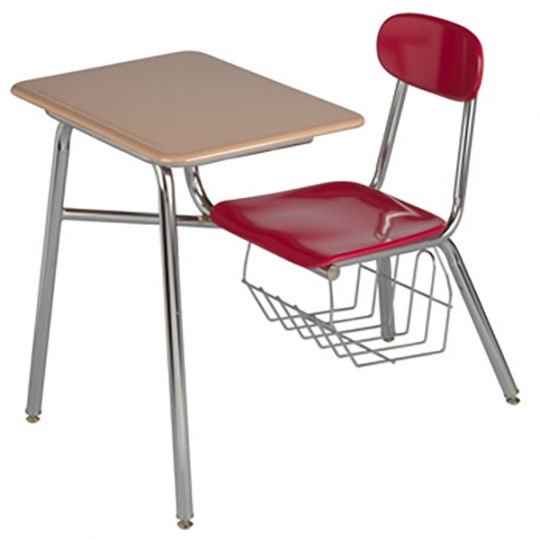desk_028.jpg: (1, 18, 525, 533)
